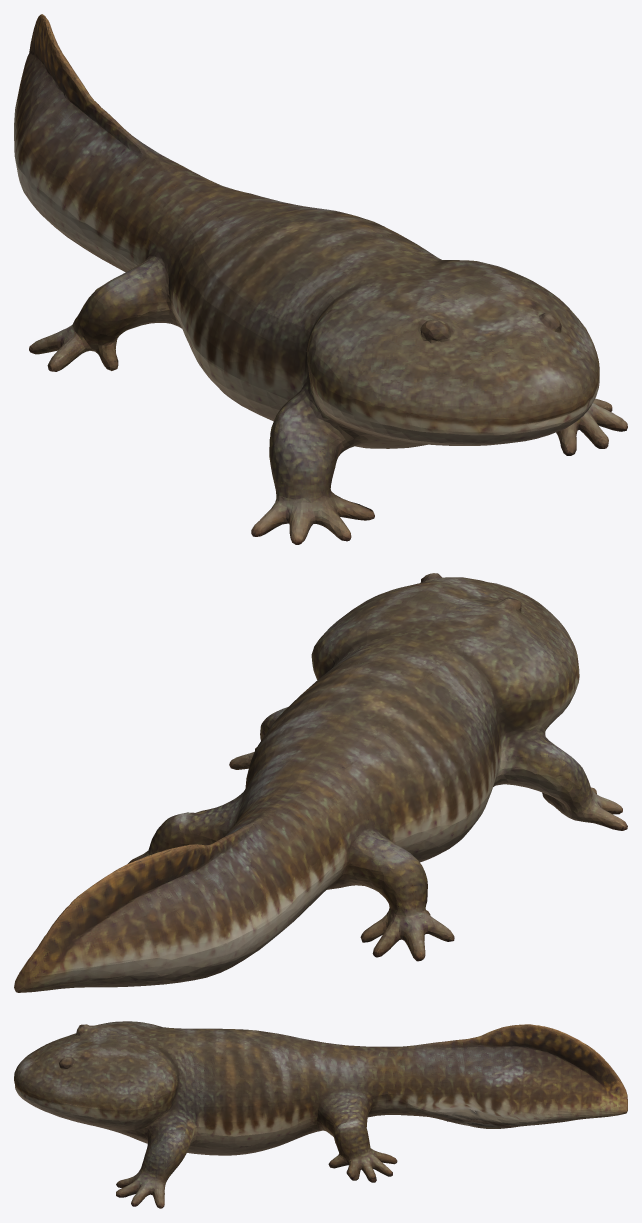
3 views of the same model, one above another, from view 1: azimuth 30°, elevation 25°; view 2: azimuth 150°, elevation 25°; view 3: azimuth 270°, elevation 25° (orthographic). The views are drawn at different scales.
Parts seen in each view (by area): view 1: world; view 2: world; view 3: world.
Boxes of the visible parts, left/top/right/bottom form: world: left=14, top=14, right=627, bottom=544; world: left=14, top=573, right=627, bottom=992; world: left=14, top=1021, right=627, bottom=1208.
Bounding box in the file's own units: 2.01 × 0.948 × 4.5.
Materials: 1 (1 with a texture image).
